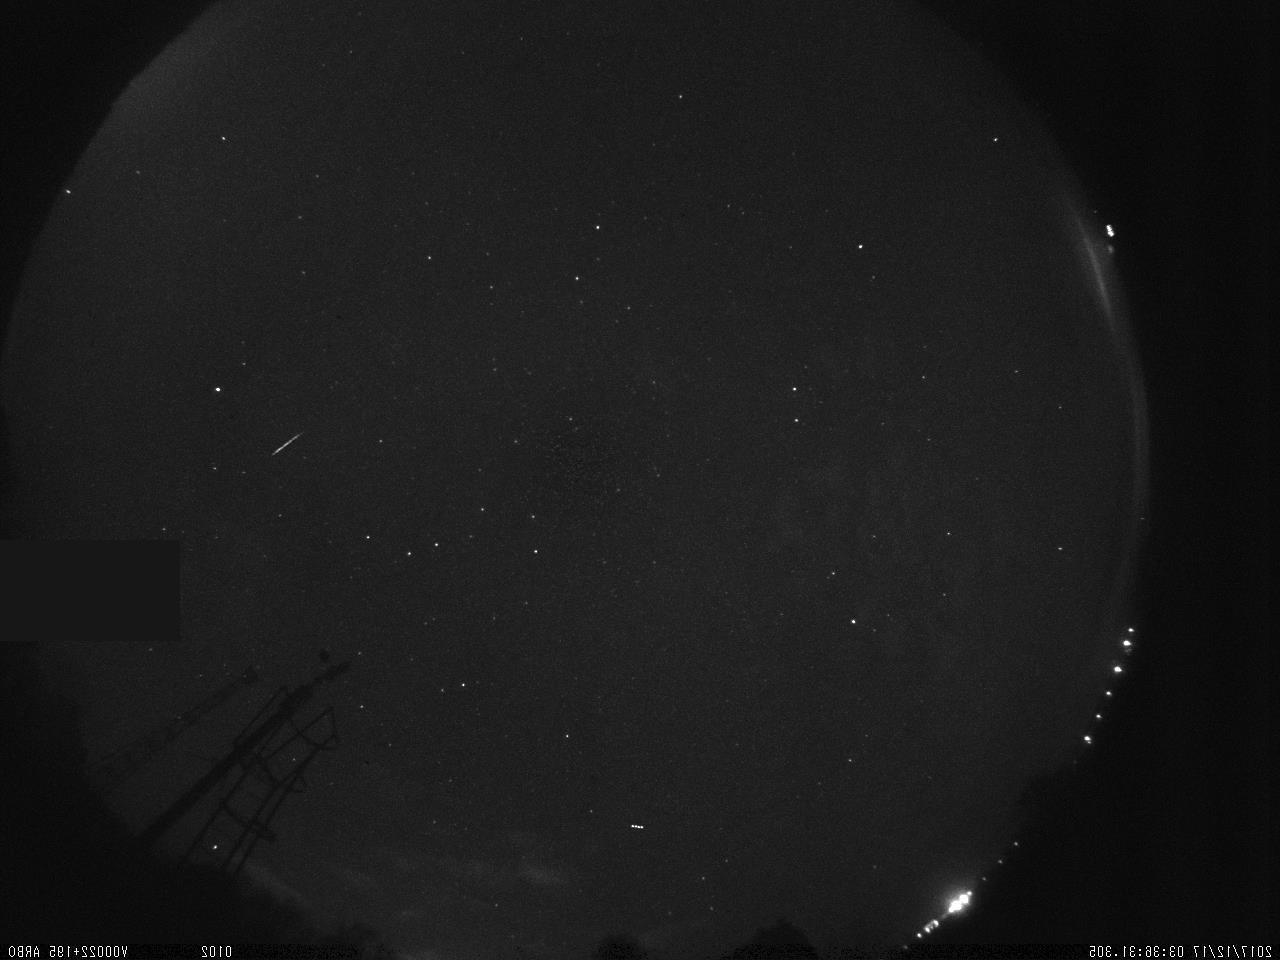meteor: (233, 405, 326, 476)
